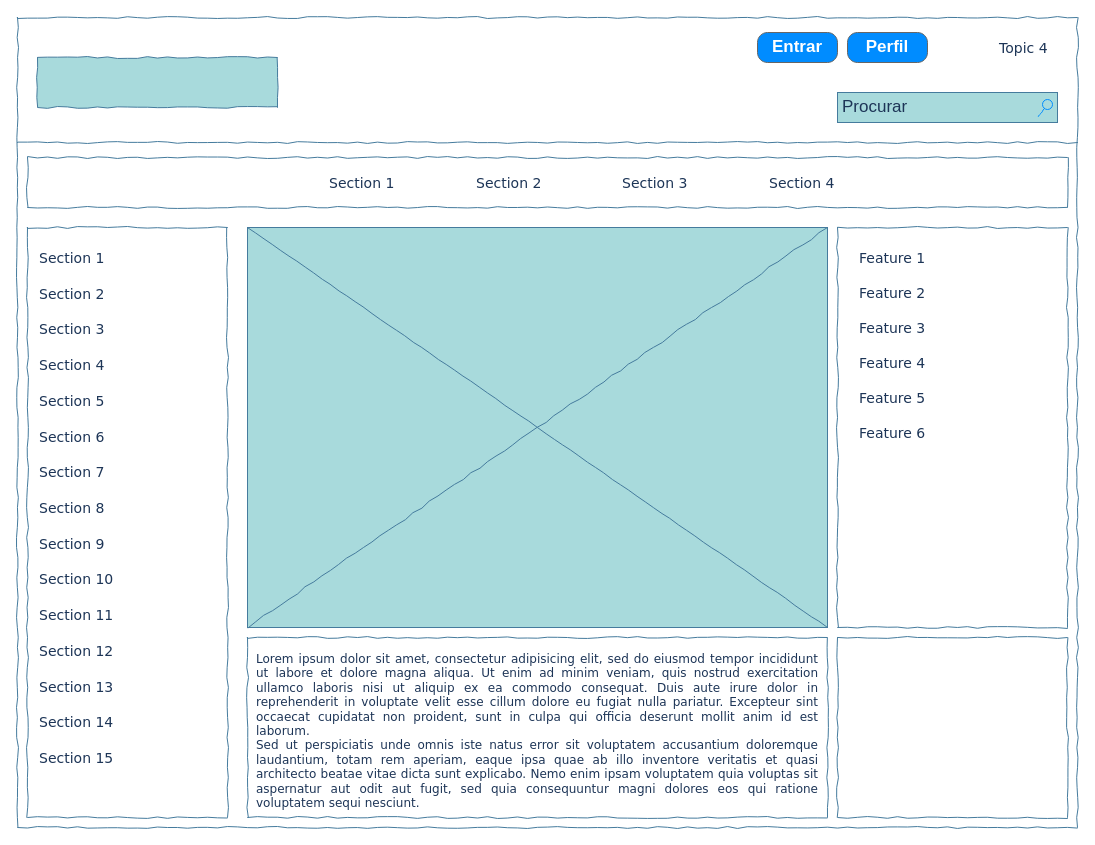
The diagram is 1095 pixels wide and 845 high, and some of its shapes have lost their labels. Here are the shapes that lost their labels. From the top down, the centre of each, then its label:
pixel 157 82: Trabalho_DEAPC
pixel 952 727: External Links
